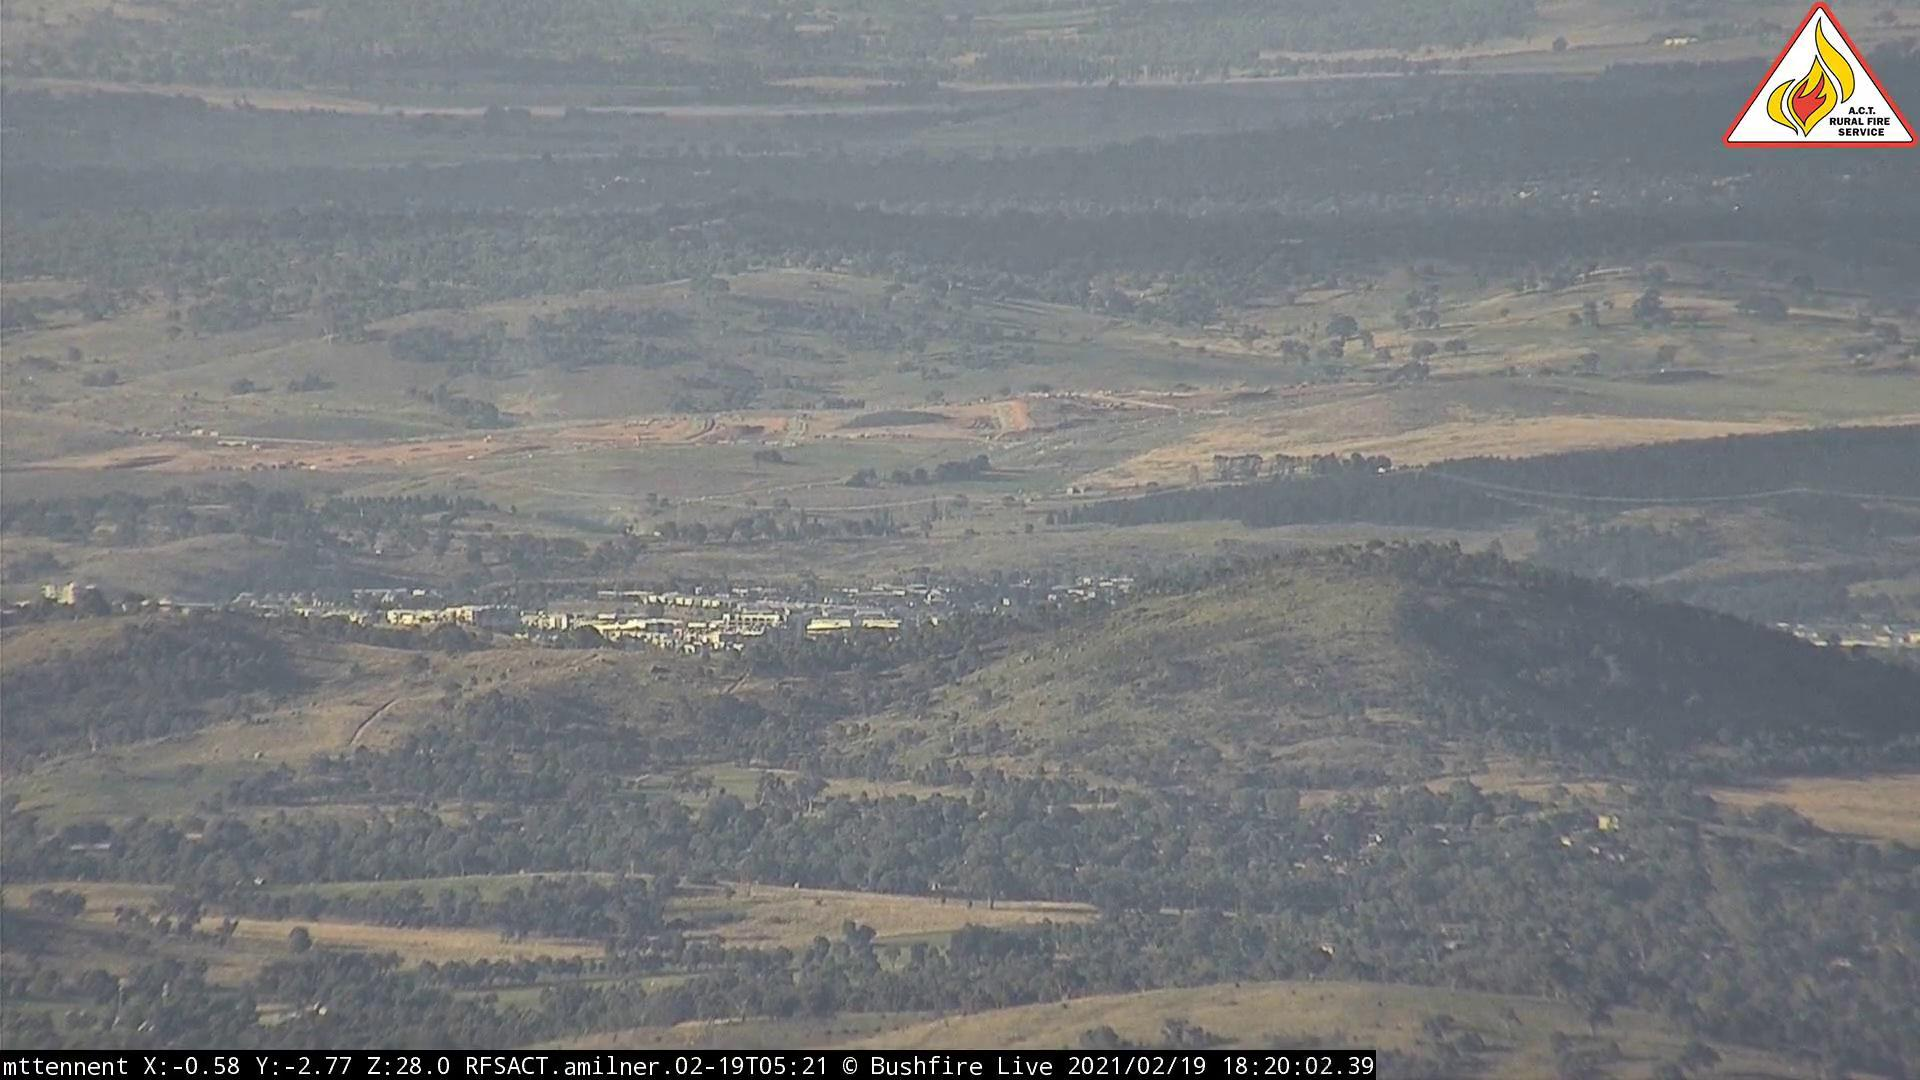Smoke: (618, 512, 667, 545)
